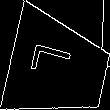L_E: (33, 46, 84, 89)
